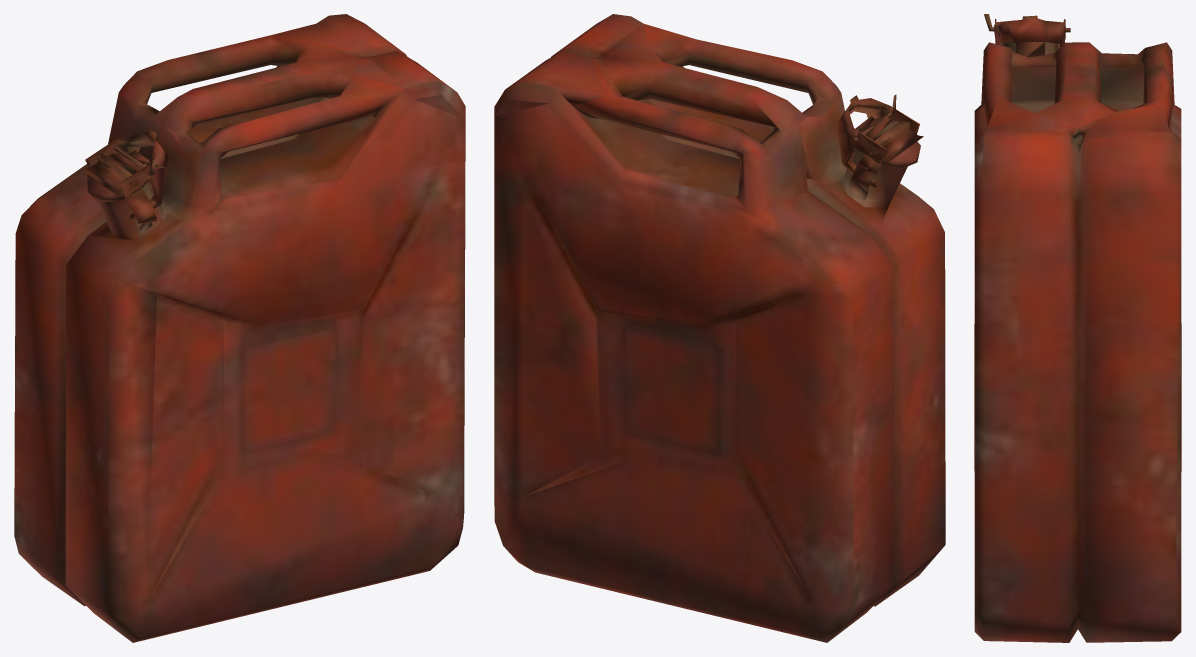
File: metal_jerrycan.glb
3 views of the same model, side by side, from view 1: azimuth 30°, elevation 25°; view 2: azimuth 150°, elevation 25°; view 3: azimuth 270°, elevation 25° (orthographic). The views are drawn at different scales.
Parts seen in each view (by area): view 1: metal_jerrycan; view 2: metal_jerrycan; view 3: metal_jerrycan.
Part boxes in pixels (x1,y1,x2,y2): metal_jerrycan: (14, 14, 465, 642); metal_jerrycan: (494, 14, 945, 642); metal_jerrycan: (974, 14, 1181, 642).
Size of the model in its own units: 0.3492 by 0.454 by 0.1694.
Materials: 1 (1 with a texture image).
